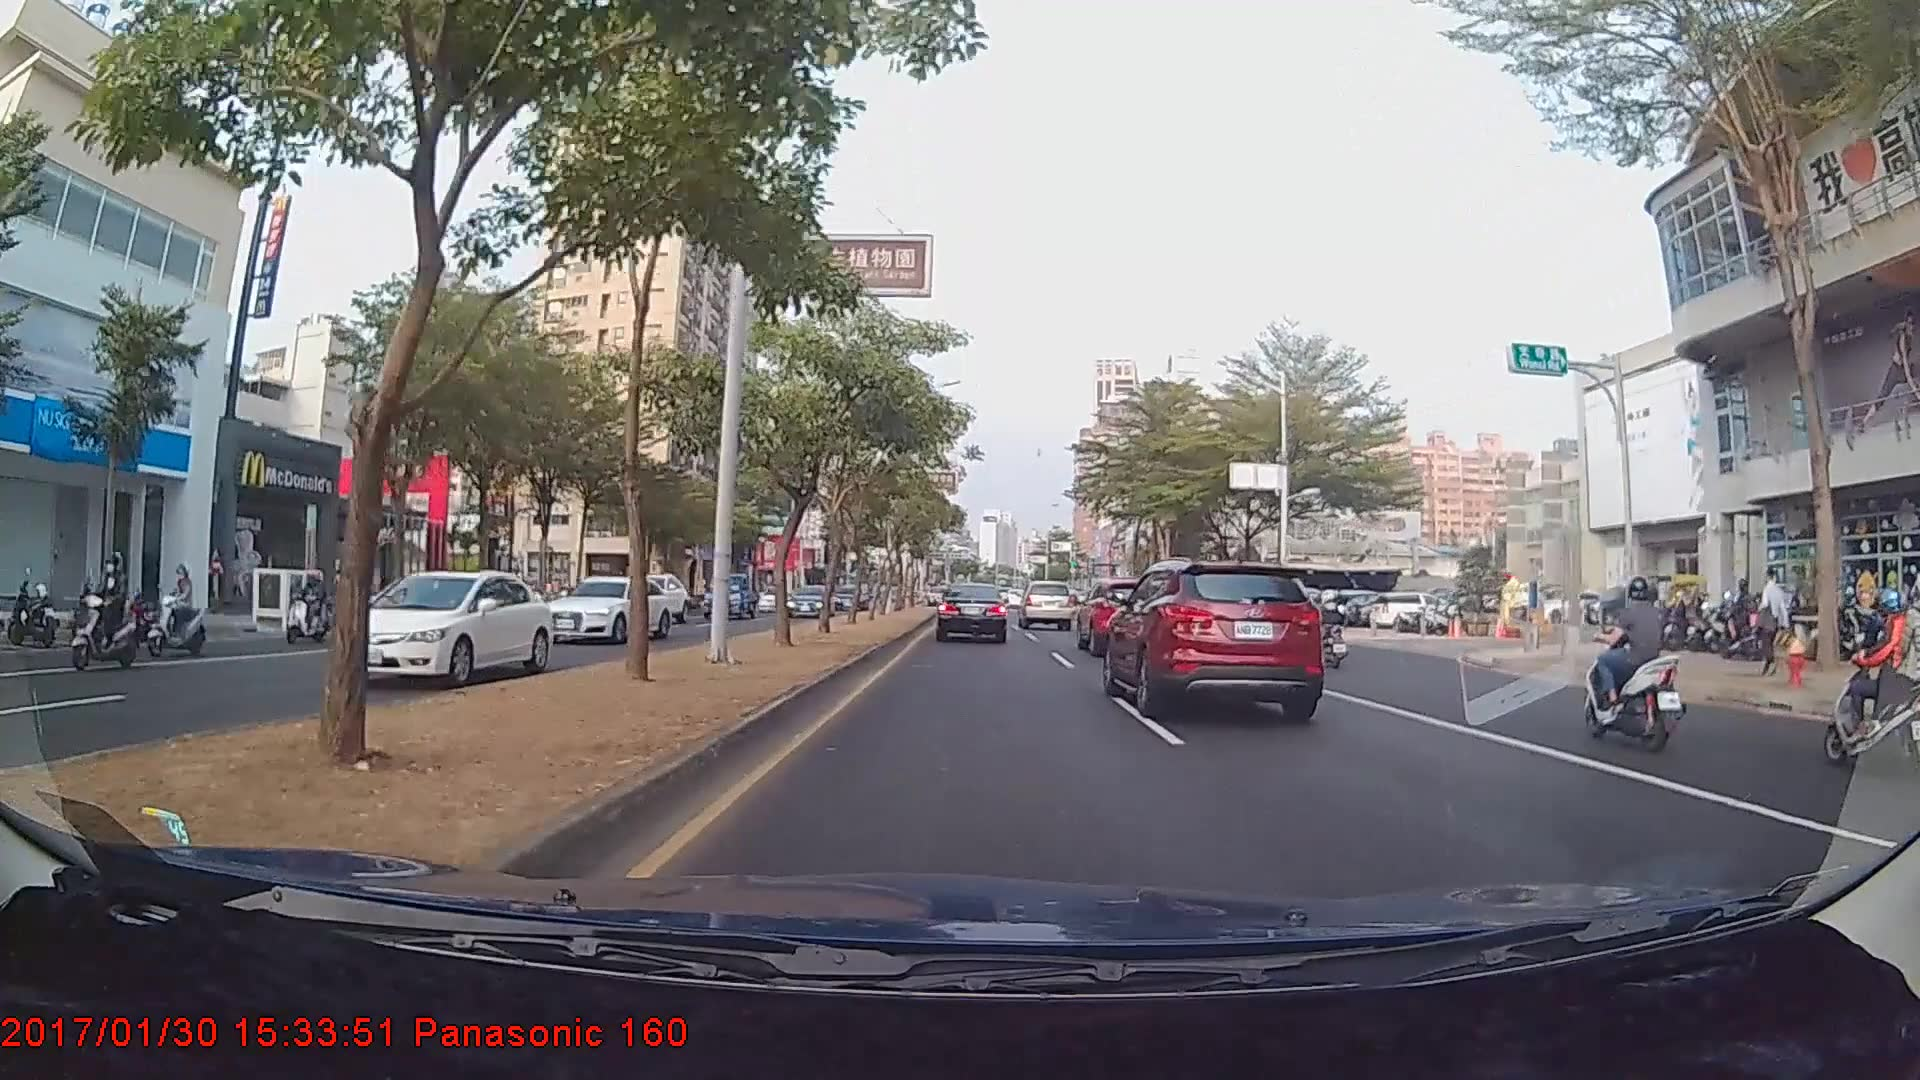pedestrian: (1757, 566, 1790, 674)
rider: (1571, 571, 1691, 752), (1818, 581, 1920, 776), (64, 549, 151, 675), (143, 562, 213, 655), (284, 566, 344, 644), (1300, 586, 1354, 667)
vehicle: (1105, 560, 1323, 715), (333, 568, 557, 689), (526, 576, 668, 644), (1074, 577, 1172, 654), (936, 582, 1009, 643), (1018, 580, 1077, 630), (703, 570, 758, 619), (786, 586, 833, 618)
